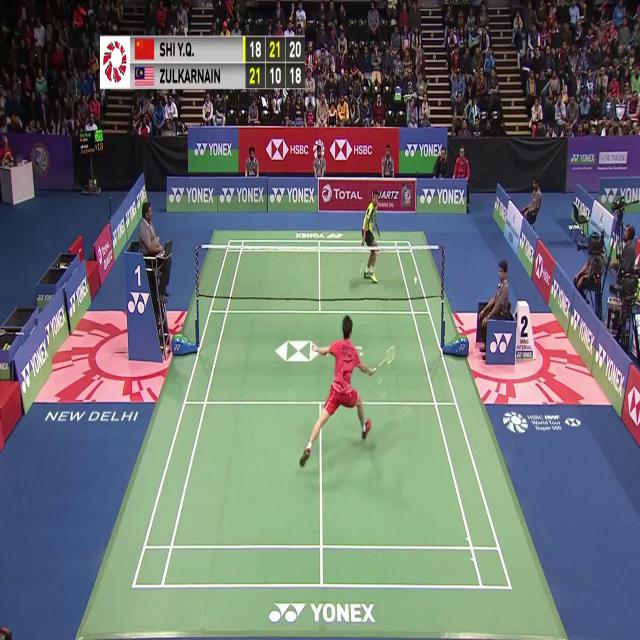Shuttlecock: (412, 275, 418, 287)
